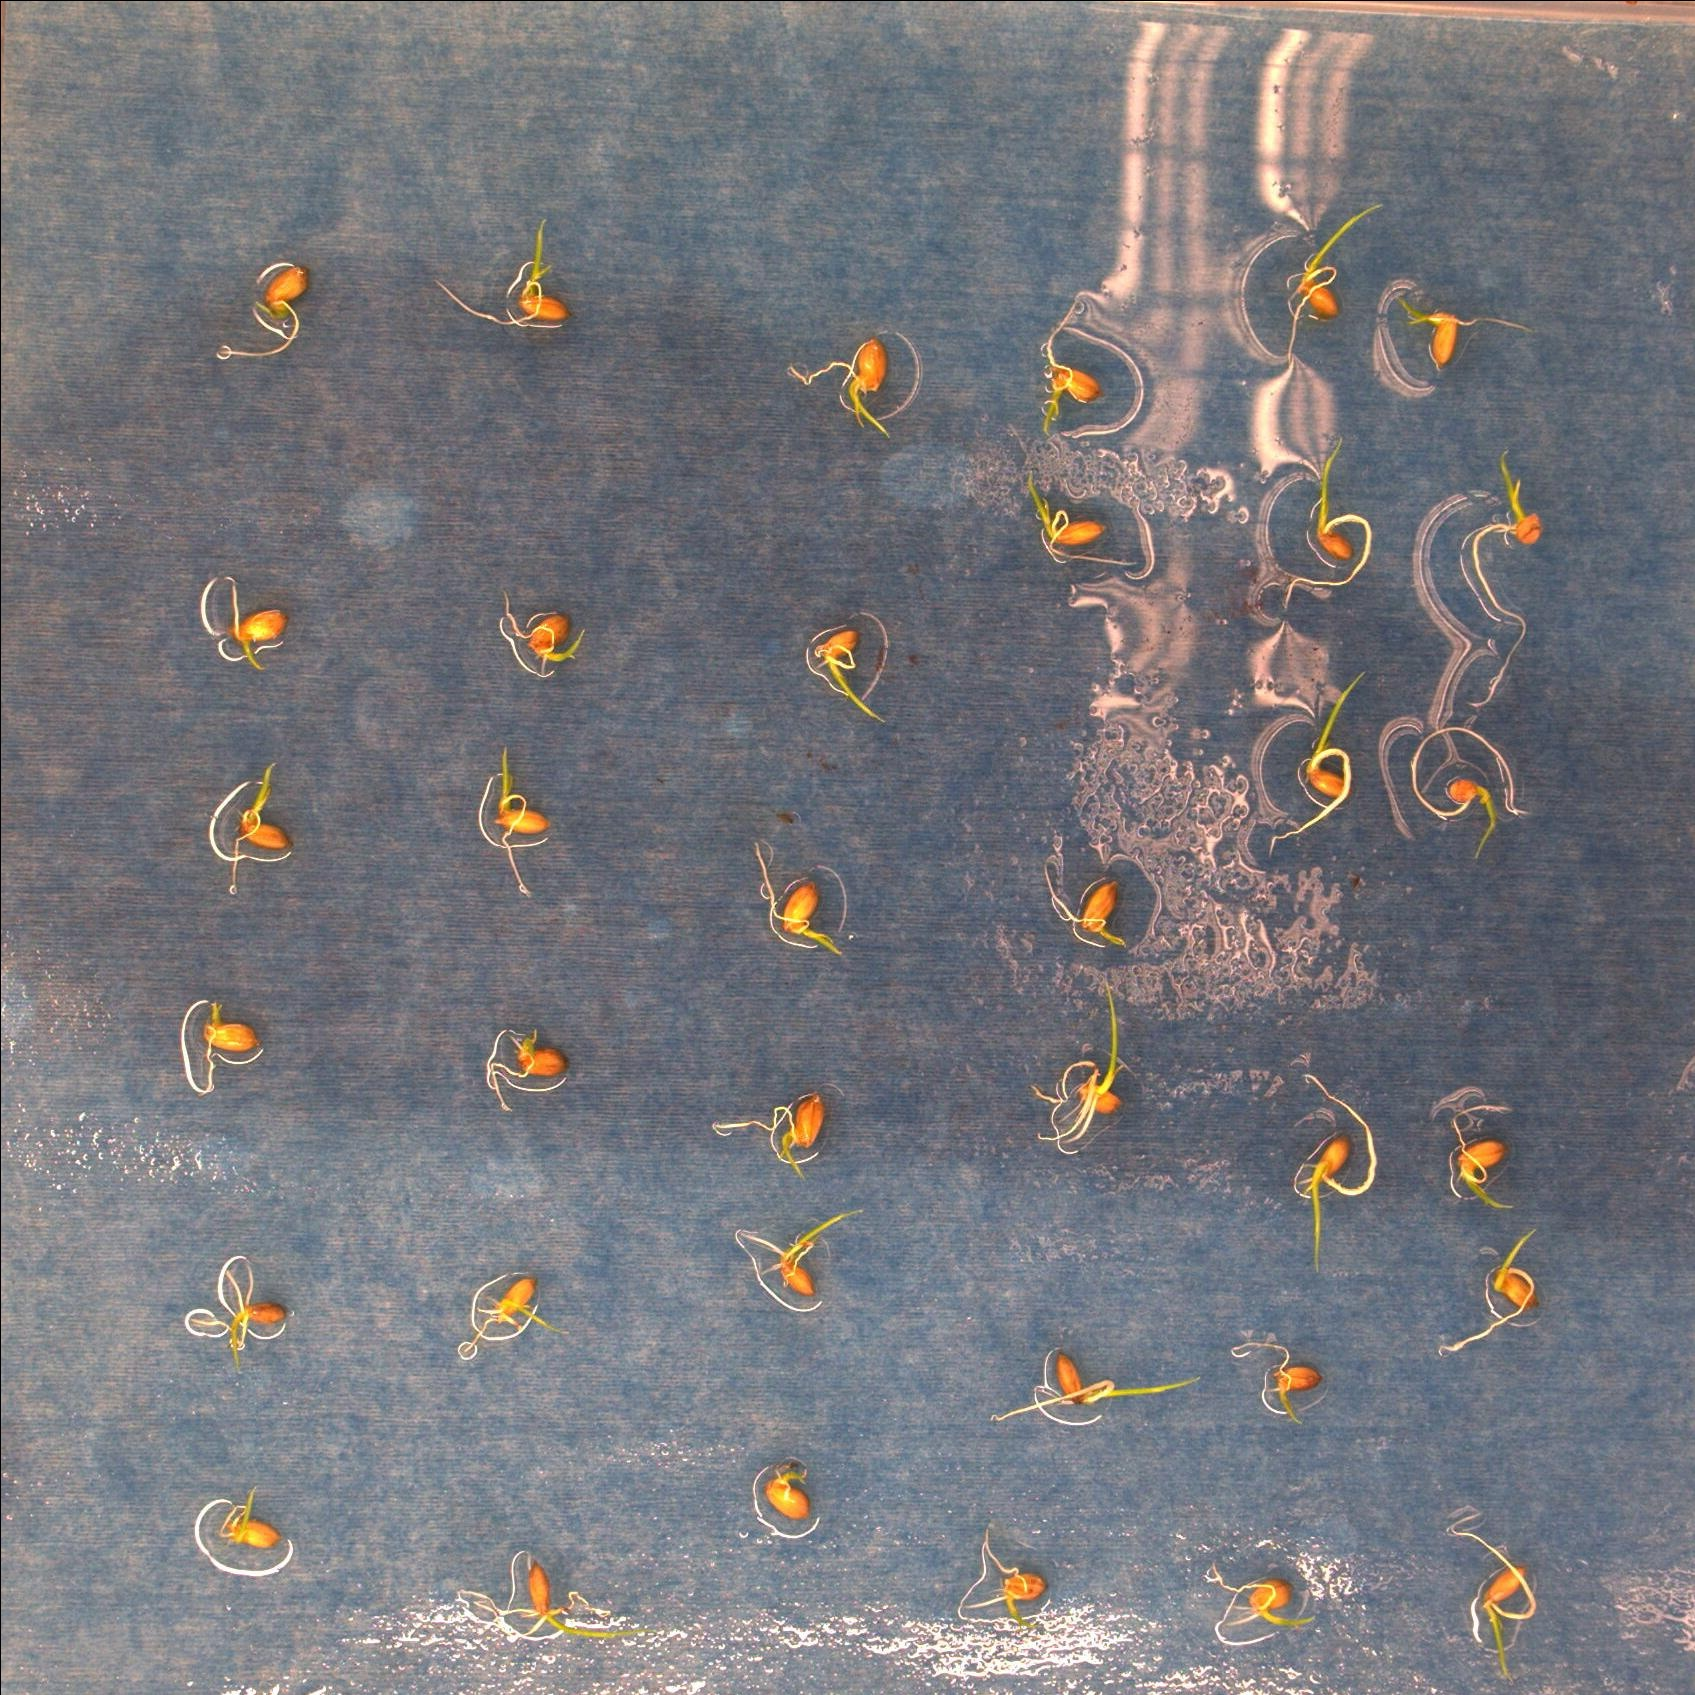sprout: (1003, 418, 1136, 573), (1287, 1069, 1380, 1277), (1471, 441, 1544, 706), (1270, 667, 1367, 855), (1277, 200, 1388, 363), (1031, 979, 1128, 1159), (983, 1352, 1203, 1430), (432, 217, 573, 331), (1445, 1509, 1541, 1673), (1412, 723, 1529, 858), (1284, 435, 1375, 602), (456, 1565, 658, 1641), (1436, 1225, 1541, 1354), (1394, 282, 1537, 369), (750, 834, 847, 958), (744, 1203, 869, 1296), (785, 331, 893, 439), (192, 1256, 289, 1372), (711, 1090, 832, 1180), (210, 258, 310, 362), (224, 754, 293, 896), (1038, 290, 1104, 439), (1038, 849, 1132, 951), (456, 1277, 570, 1361), (494, 737, 546, 900), (812, 626, 891, 730), (1442, 1104, 1516, 1214), (1205, 1563, 1316, 1634), (498, 588, 588, 677), (967, 1530, 1049, 1625), (483, 1021, 567, 1111), (1232, 1341, 1322, 1420), (222, 574, 287, 672), (199, 992, 261, 1093), (214, 1487, 282, 1554), (762, 1461, 813, 1524)
